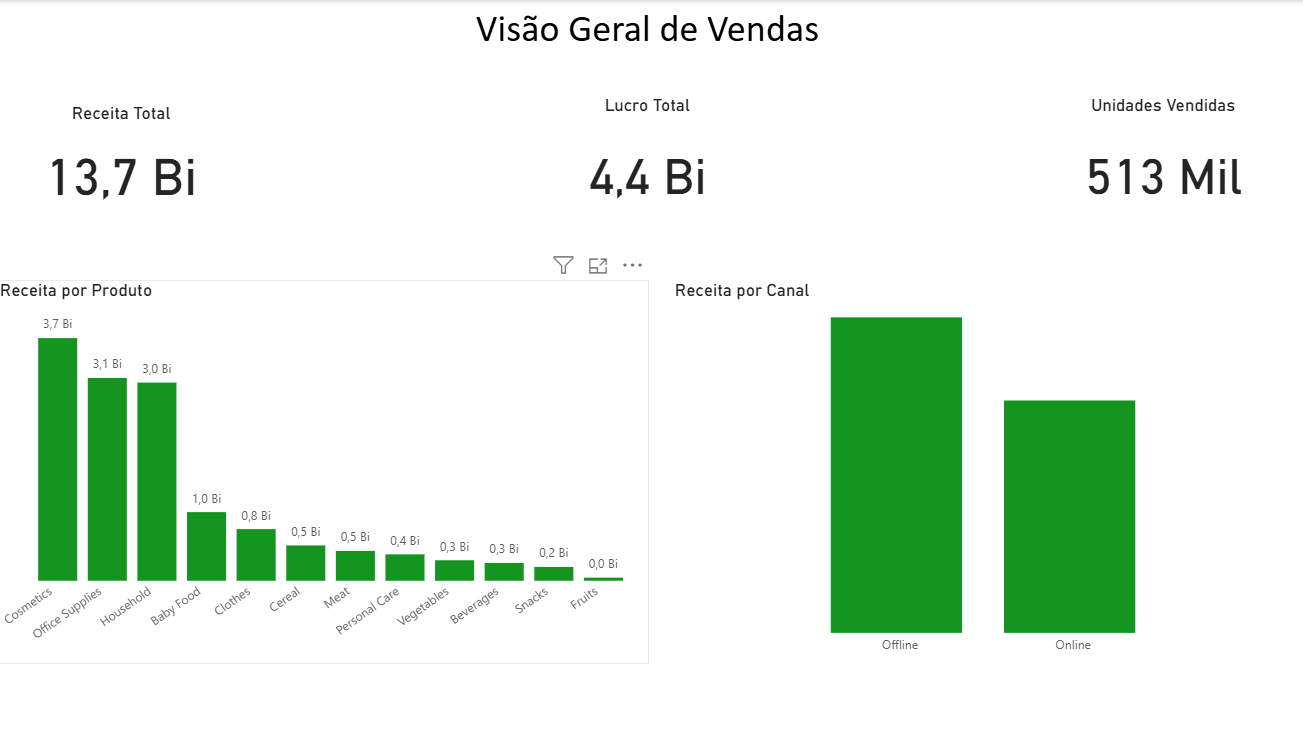

What the dashboard file says about the page in this screenshot:
{"tool":"powerbi","page":{"name":"Visão Geral de Vendas","canvas":[1280,720],"ordinal":0},"visuals":[{"type":"columnChart","title":"Receita por Produto","fields":{"Y":["Sum(100 Sales Records.Total Revenue)"],"Category":["100 Sales Records.Item Type"]},"box":[0,273.9,639.5,375.4],"z":0},{"type":"lineStackedColumnComboChart","title":"Receita por Canal","fields":{"Category":["100 Sales Records.Sales Channel"],"Y":["Sum(100 Sales Records.Total Revenue)"]},"box":[660.3,273.9,620,375.4],"z":1000},{"type":"textbox","box":[146.7,0,983.2,56.3],"z":2000},{"type":"card","title":"Receita Total","fields":{"Values":["Sum(100 Sales Records.Total Revenue)"]},"box":[0,100.3,247,113.7],"z":3000},{"type":"card","title":"Lucro Total","fields":{"Values":["Sum(100 Sales Records.Total Profit)"]},"box":[502.6,92.9,271.5,129.6],"z":4000},{"type":"card","title":"Unidades Vendidas","fields":{"Values":["Sum(100 Sales Records.Units Sold)"]},"box":[1005.2,92.9,275.1,129.6],"z":5000}]}

Visuals, with their boxes in screenshot pixels (x1, y1, x2, y2), scaled from the page's 1280x720 canvas onto the 1303x735 screenshot:
"Receita por Produto" columnChart: detection(0, 280, 651, 663)
"Receita por Canal" lineStackedColumnComboChart: detection(672, 280, 1302, 663)
textbox: detection(149, 0, 1150, 57)
"Receita Total" card: detection(0, 102, 251, 218)
"Lucro Total" card: detection(512, 95, 788, 227)
"Unidades Vendidas" card: detection(1023, 95, 1302, 227)
